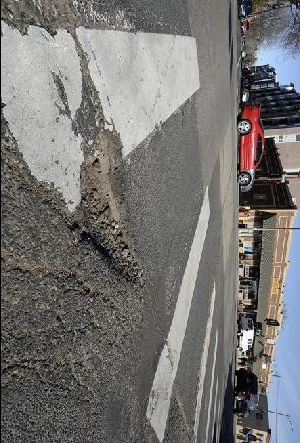pothole: (68, 117, 149, 291)
